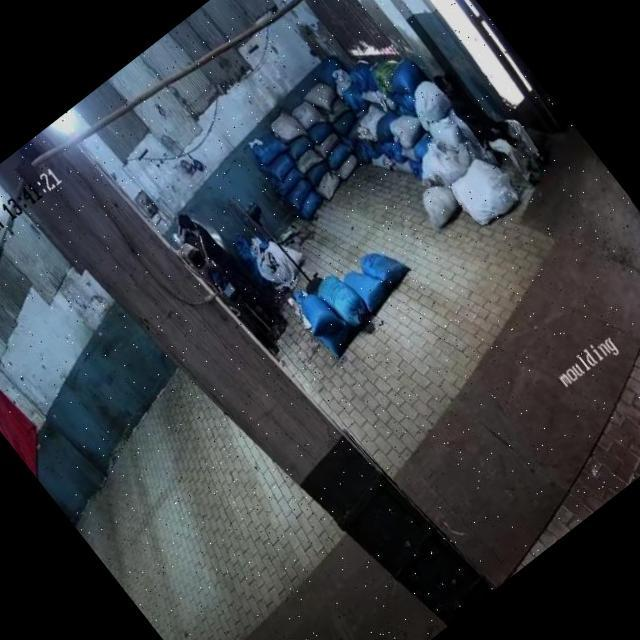person: (431, 50, 556, 192), (173, 198, 287, 332)
